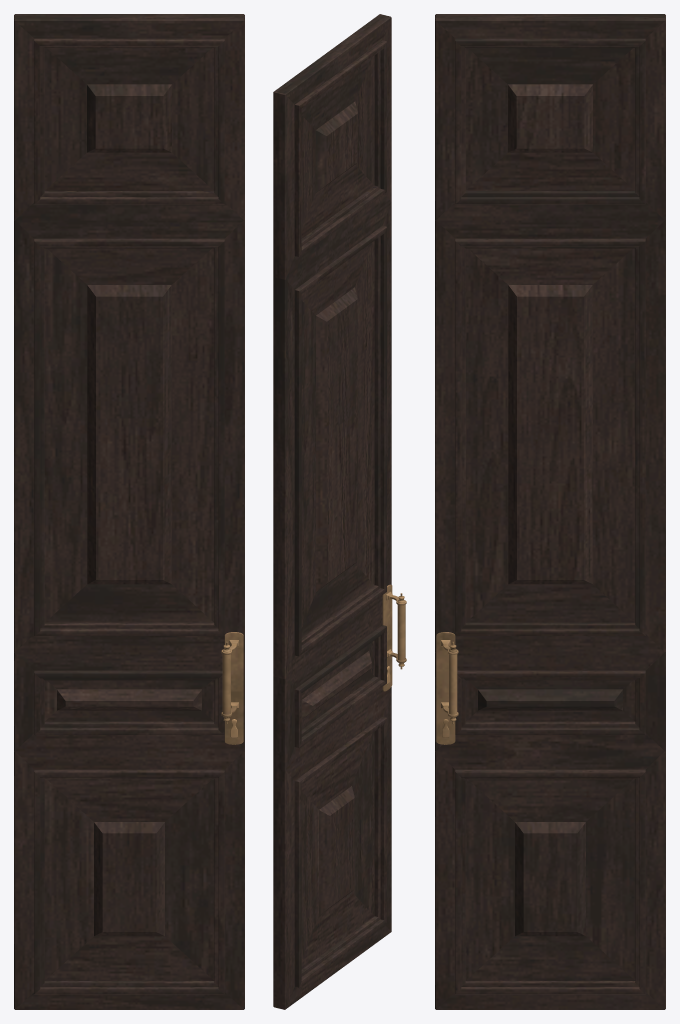
The model's file is Entrance_Door_1.fbx.
3 renders of one model, left to right at view 1: azimuth 90°, elevation 25°; view 2: azimuth 150°, elevation 25°; view 3: azimuth 270°, elevation 25°, orthographic. The views are drawn at different scales.
Parts seen in each view (by area): view 1: SM_modular_element_22_door_1_LOD0; view 2: SM_modular_element_22_door_1_LOD0; view 3: SM_modular_element_22_door_1_LOD0.
Boxes of the visible parts, x1=… form: SM_modular_element_22_door_1_LOD0: x1=14, y1=14, x2=244, y2=1009; SM_modular_element_22_door_1_LOD0: x1=273, y1=14, x2=406, y2=1009; SM_modular_element_22_door_1_LOD0: x1=435, y1=14, x2=665, y2=1009.
Bounding box in the file's own units: 22.35 × 344 × 72.77.
